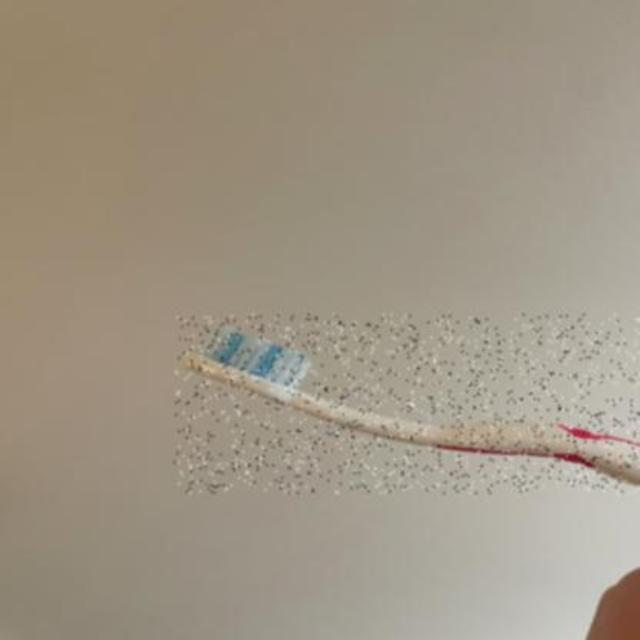toothbrush: (174, 314, 640, 494)
